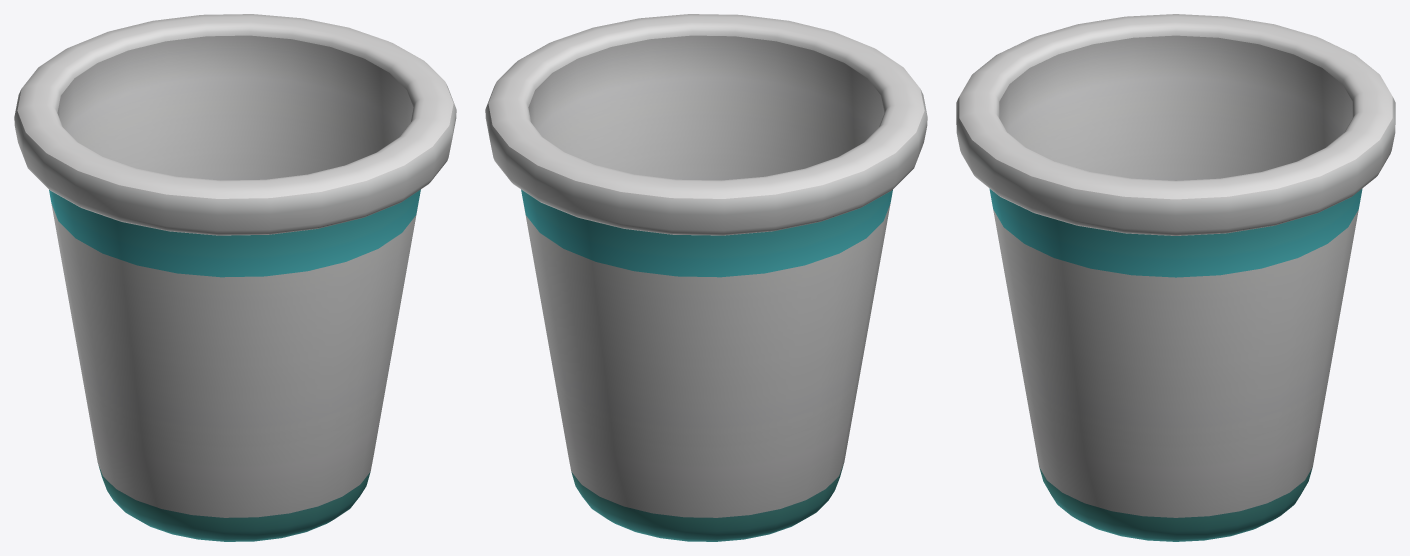
The model's file is CoffeeGlass.fbx.
3 renders of one model, left to right at view 1: azimuth 30°, elevation 25°; view 2: azimuth 150°, elevation 25°; view 3: azimuth 270°, elevation 25°, orthographic.
Parts seen in each view (by area): view 1: CoffeeGlass; view 2: CoffeeGlass; view 3: CoffeeGlass.
Part boxes in pixels (bbox=[...]): CoffeeGlass: bbox=[14, 14, 456, 541]; CoffeeGlass: bbox=[485, 14, 927, 541]; CoffeeGlass: bbox=[956, 14, 1395, 541].
Size of the model in its own units: 41.63 by 40.72 by 41.32.
Materials: 1 (1 with a texture image).
